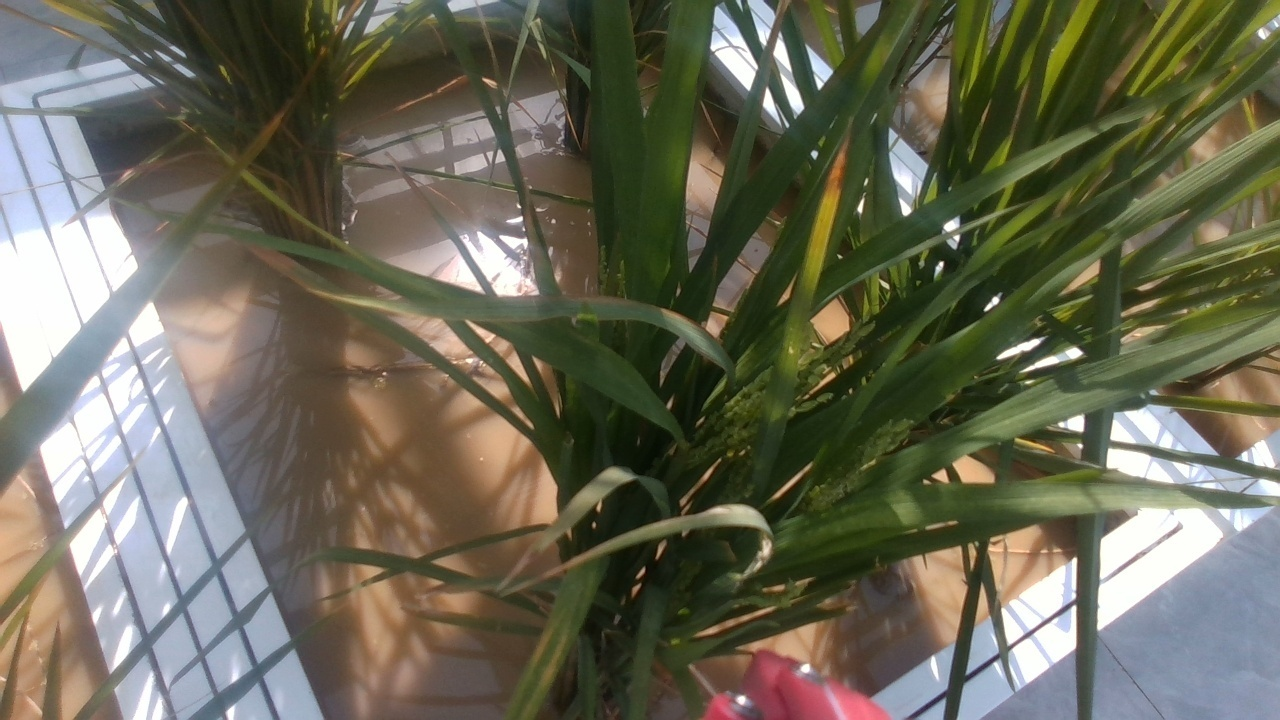panicle: (691, 306, 863, 462), (803, 410, 922, 535)
